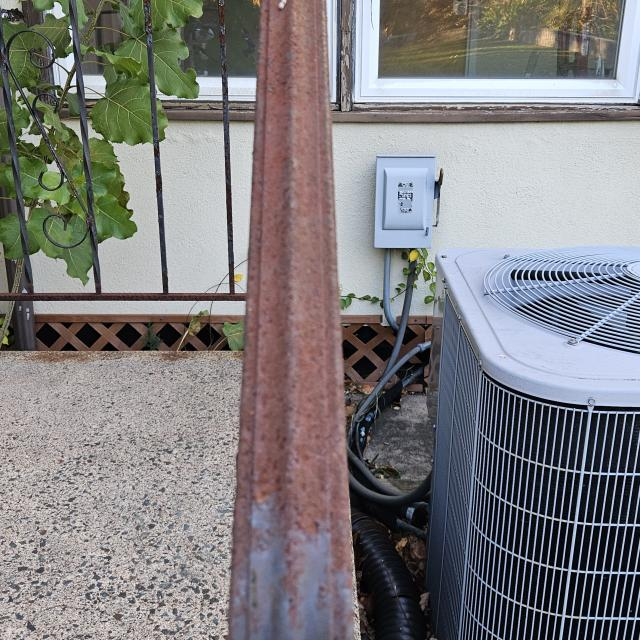Uniform Corrosion: (233, 1, 360, 635)
